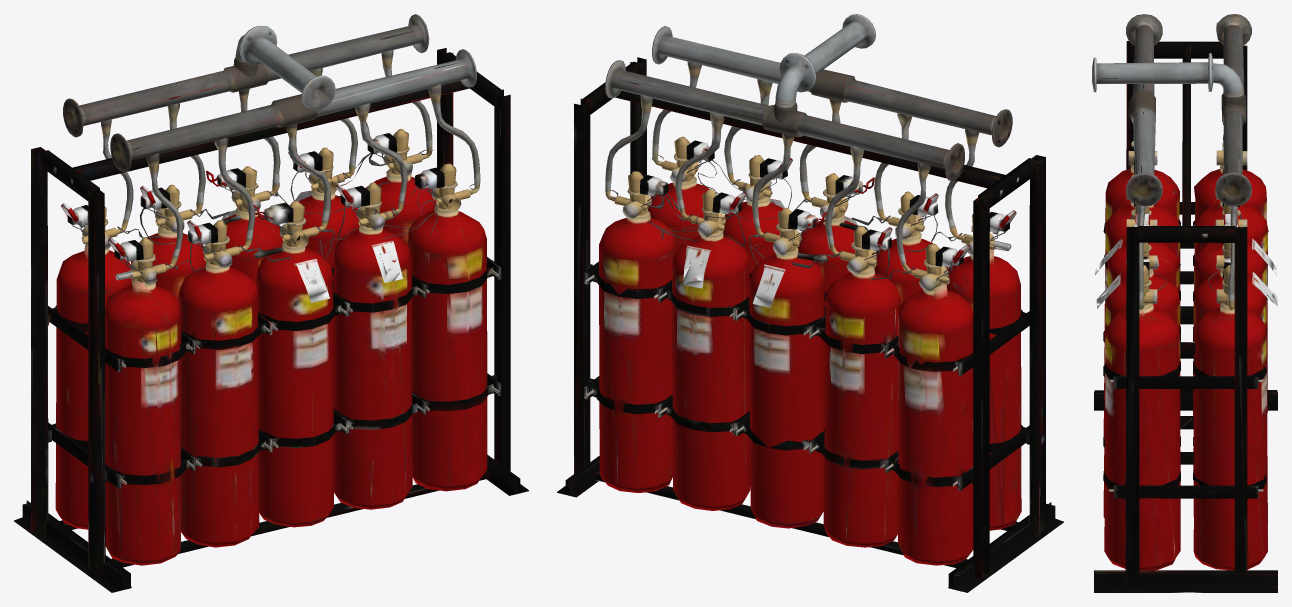
File: fire_suppression_rack.glb
3 renders of one model, left to right at view 1: azimuth 30°, elevation 25°; view 2: azimuth 150°, elevation 25°; view 3: azimuth 270°, elevation 25°, orthographic. The views are drawn at different scales.
Parts seen in each view (by area): view 1: geometry_0; view 2: geometry_0; view 3: geometry_0.
Part boxes in pixels (x1,y1,x2,y2): geometry_0: (14,14,528,592); geometry_0: (557,14,1063,592); geometry_0: (1092,14,1277,592).
Size of the model in its own units: 0.8813 by 0.9492 by 0.3618.
Materials: 1 (1 with a texture image).
